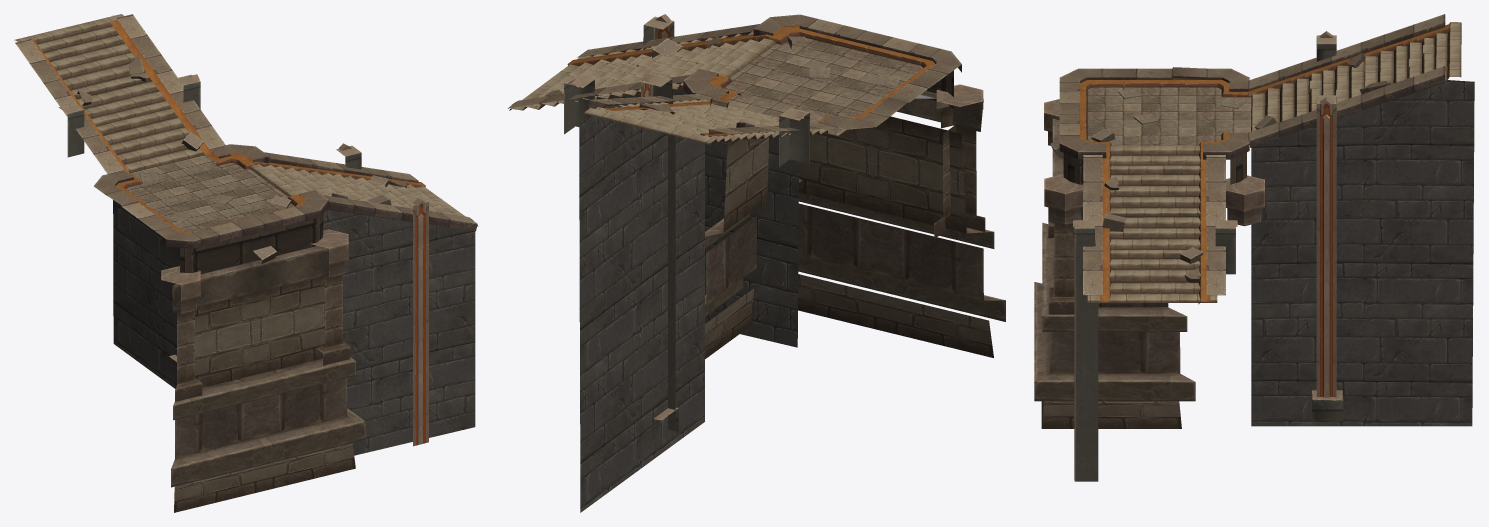
The model's file is terrain_section03_guanka1102.FBX.
3 views of the same model, side by side, from view 1: azimuth 30°, elevation 25°; view 2: azimuth 150°, elevation 25°; view 3: azimuth 270°, elevation 25° (orthographic). The views are drawn at different scales.
Visible parts, largest first — view 1: terrain_section03_guanka1102; view 2: terrain_section03_guanka1102; view 3: terrain_section03_guanka1102.
Part boxes in pixels (left/top/right/bottom): terrain_section03_guanka1102: left=14, top=14, right=478, bottom=512; terrain_section03_guanka1102: left=508, top=14, right=1005, bottom=512; terrain_section03_guanka1102: left=1034, top=14, right=1474, bottom=481.
Size of the model in its own units: 27.98 by 27.02 by 30.35.
